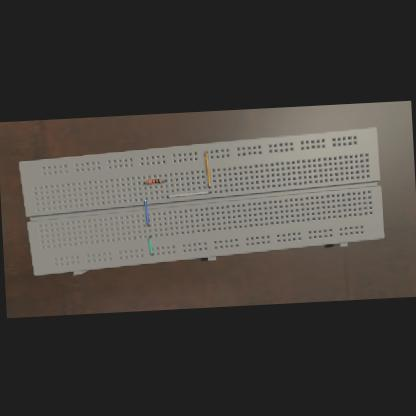breadboard: (17, 124, 384, 276)
resistor: (145, 177, 160, 183)
wire: (165, 190, 209, 196), (204, 150, 209, 186), (144, 197, 148, 225), (148, 234, 152, 254), (160, 179, 165, 180), (142, 181, 144, 182)
